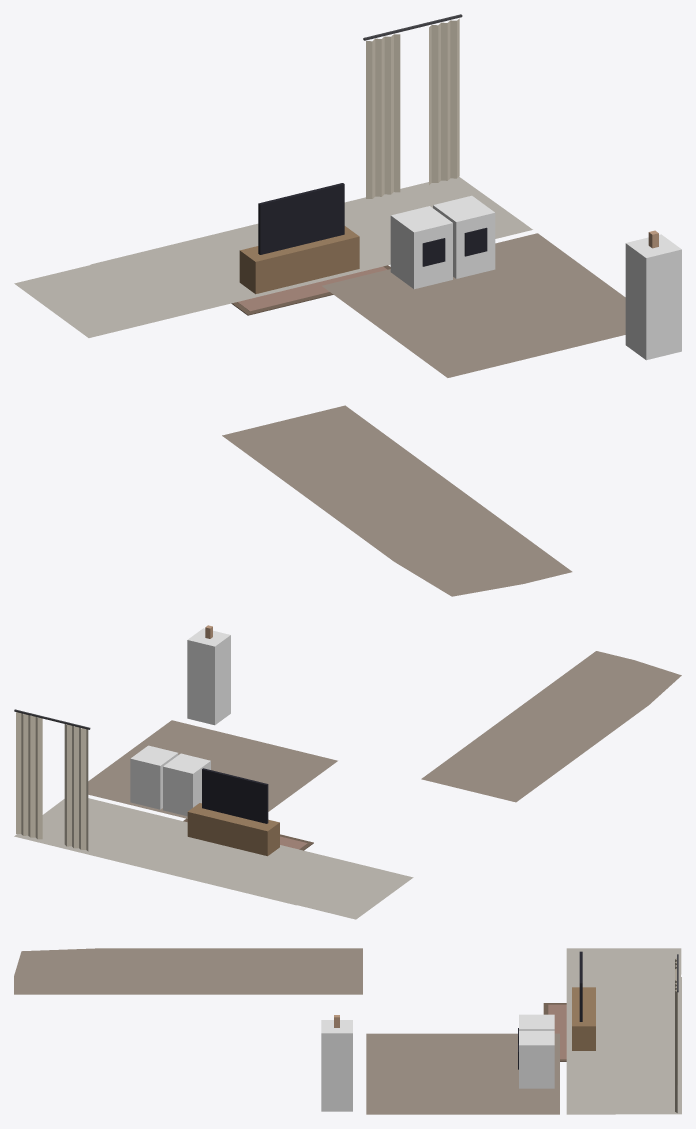
File: fine-s0.glb
The picture shows the model from 3 angles, top to bottom: view 1: azimuth 30°, elevation 25°; view 2: azimuth 150°, elevation 25°; view 3: azimuth 270°, elevation 25°; orthographic projection. The views are drawn at different scales.
Visible parts, largest first — view 1: soft-s0, tv-console.000, water-heater.000, washer.000, washer.001; view 2: soft-s0, tv-console.000, water-heater.000, washer.000, washer.001; view 3: soft-s0, water-heater.000, washer.001, tv-console.000, washer.000.
Part boxes in pixels (left/top/right/bottom): soft-s0: left=14, top=14, right=625, bottom=596; tv-console.000: left=239, top=183, right=359, bottom=294; water-heater.000: left=625, top=230, right=681, bottom=360; washer.000: left=390, top=206, right=452, bottom=289; washer.001: left=433, top=195, right=495, bottom=278; soft-s0: left=14, top=651, right=681, bottom=919; tv-console.000: left=187, top=768, right=279, bottom=856; water-heater.000: left=187, top=625, right=230, bottom=725; washer.000: left=163, top=753, right=210, bottom=816; washer.001: left=130, top=745, right=178, bottom=809; soft-s0: left=14, top=948, right=681, bottom=1114; water-heater.000: left=321, top=1015, right=352, bottom=1111; washer.001: left=518, top=1030, right=554, bottom=1088; tv-console.000: left=572, top=951, right=595, bottom=1050; washer.000: left=518, top=1014, right=554, bottom=1043.
Size of the model in its own units: 6.85 by 2.4 by 11.6.
